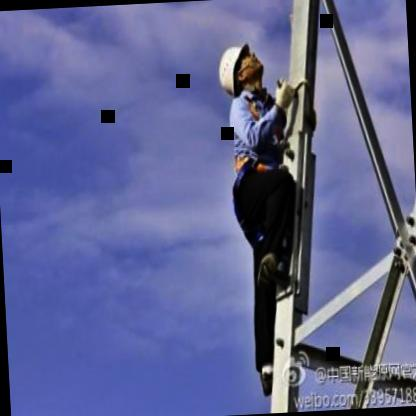helmet: (214, 43, 270, 98)
